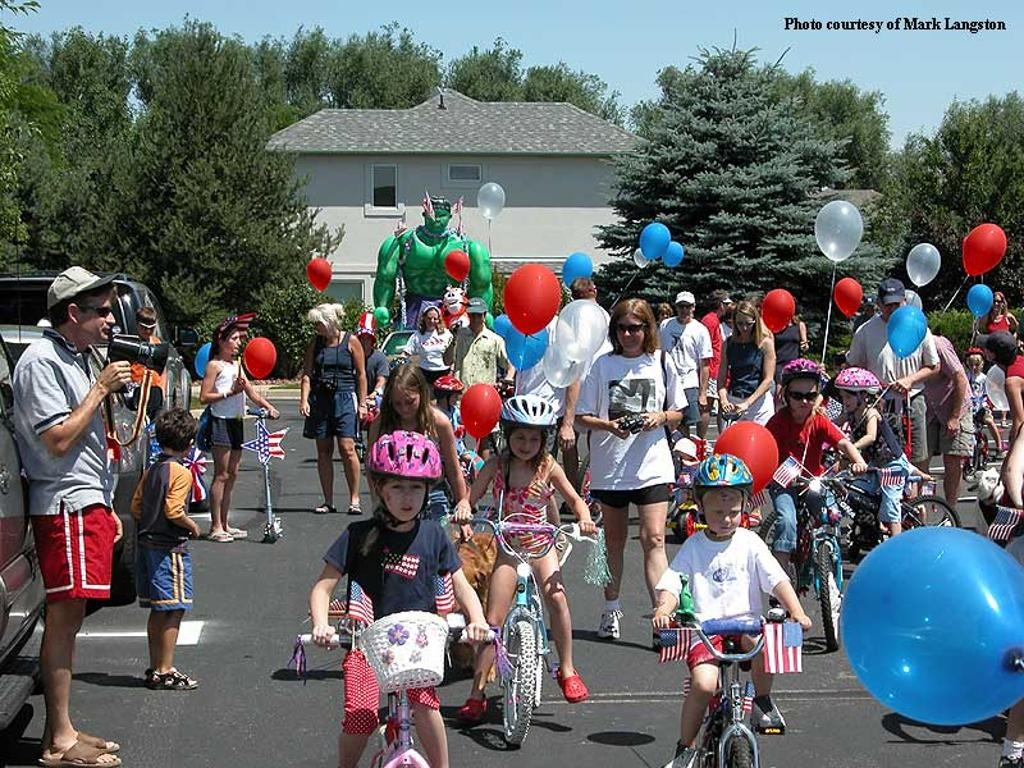human_face: (381, 470, 425, 520), (703, 488, 741, 534), (80, 293, 114, 339), (786, 375, 818, 415), (510, 424, 542, 460), (390, 384, 420, 418), (616, 316, 644, 350), (838, 388, 860, 412), (881, 295, 903, 319), (426, 207, 448, 231), (734, 311, 754, 335), (222, 330, 240, 354), (136, 318, 156, 338), (310, 315, 328, 335), (468, 310, 484, 328), (966, 355, 982, 371), (675, 449, 691, 465), (677, 301, 691, 317), (426, 310, 438, 326), (990, 294, 1002, 310), (236, 323, 248, 339), (360, 334, 372, 348), (447, 390, 459, 404), (658, 308, 668, 320), (718, 301, 728, 313), (792, 310, 802, 322), (726, 300, 736, 310), (867, 303, 877, 313)
